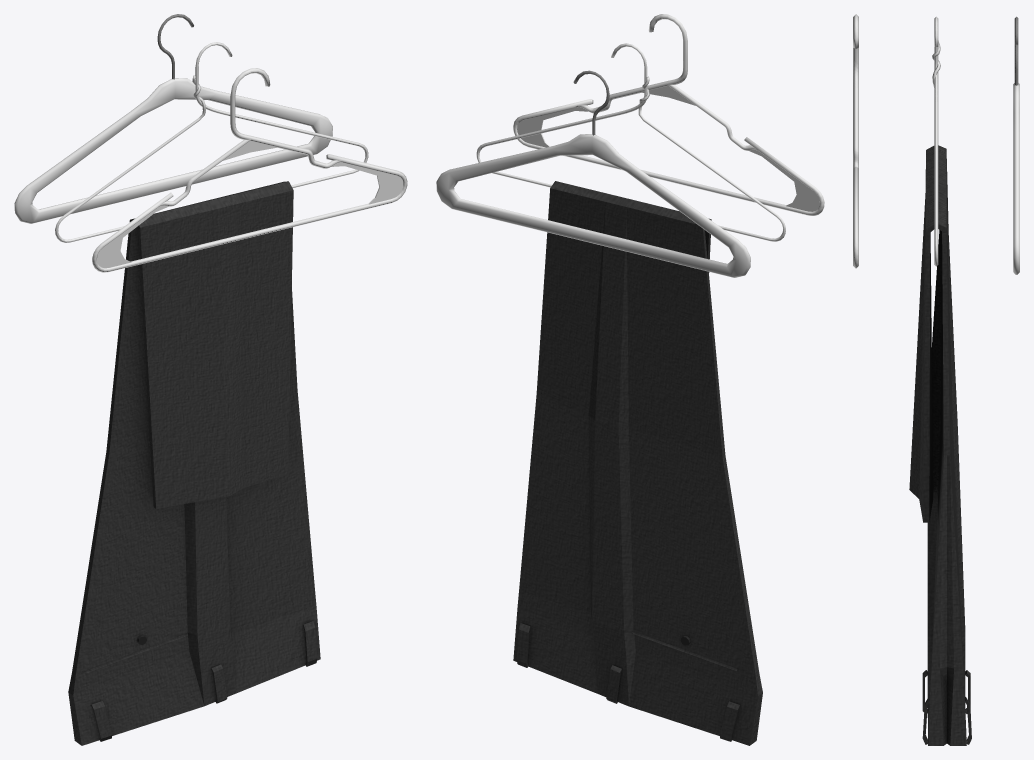
Rendered from ropa_2.fbx.
3 renders of one model, left to right at view 1: azimuth 30°, elevation 25°; view 2: azimuth 150°, elevation 25°; view 3: azimuth 270°, elevation 25°, orthographic. The views are drawn at different scales.
Parts seen in each view (by area): view 1: Plane.008_Plane.003, Plane.010, BezierCurve.009_Plastic_Hanger.001, BezierCurve.010_Metal_Hook.001, Plane.006_Plane.001, Plane.009; view 2: Plane.008_Plane.003, Plane.010, BezierCurve.009_Plastic_Hanger.001, BezierCurve.010_Metal_Hook.001, Plane.006_Plane.001, Plane.009; view 3: Plane.008_Plane.003, BezierCurve.009_Plastic_Hanger.001, Plane.010, BezierCurve.010_Metal_Hook.001, Plane.009, BezierCurve.008_Metal_Hook.004.
Part boxes in pixels (x1,y1,x2,y2): Plane.008_Plane.003: (68,181,320,745); Plane.010: (14,78,332,223); BezierCurve.009_Plastic_Hanger.001: (92,68,407,272); BezierCurve.010_Metal_Hook.001: (55,42,368,242); Plane.006_Plane.001: (97,140,403,268); Plane.009: (91,621,317,741); Plane.008_Plane.003: (513,181,762,745); Plane.010: (436,134,750,277); BezierCurve.009_Plastic_Hanger.001: (513,14,824,215); BezierCurve.010_Metal_Hook.001: (476,43,785,241); Plane.006_Plane.001: (517,86,819,211); Plane.009: (516,623,740,741); Plane.008_Plane.003: (909,145,966,745); BezierCurve.009_Plastic_Hanger.001: (853,14,858,268); Plane.010: (1013,83,1019,274); BezierCurve.010_Metal_Hook.001: (932,16,940,266); Plane.009: (922,670,971,744); BezierCurve.008_Metal_Hook.004: (1014,16,1018,85).
Bounding box in the file's own units: 482 × 978 × 208.
4 materials, 1 textured.
